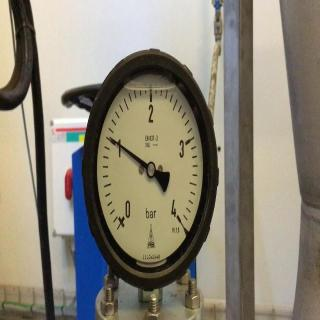gauge: (82, 44, 218, 304), (110, 199, 134, 235), (172, 211, 196, 241), (145, 162, 155, 178), (105, 134, 115, 144)
